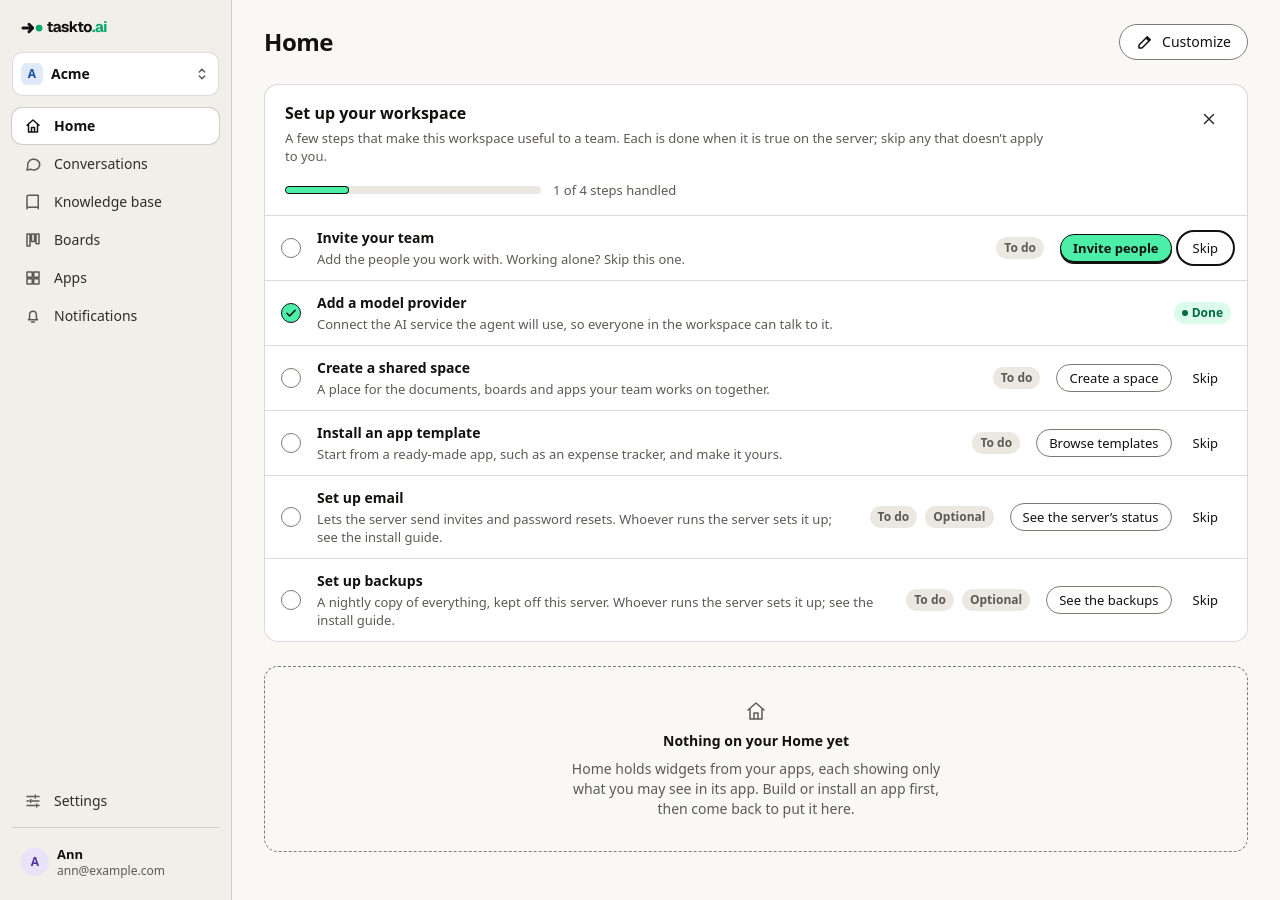
Test: while the list loads again after a change, the button being used stays, and Home isn’t asked for again
Click the button with aria-label "Skip: Invite your team". click: coordinates (1205, 248)
box: [1180,234,1231,262]
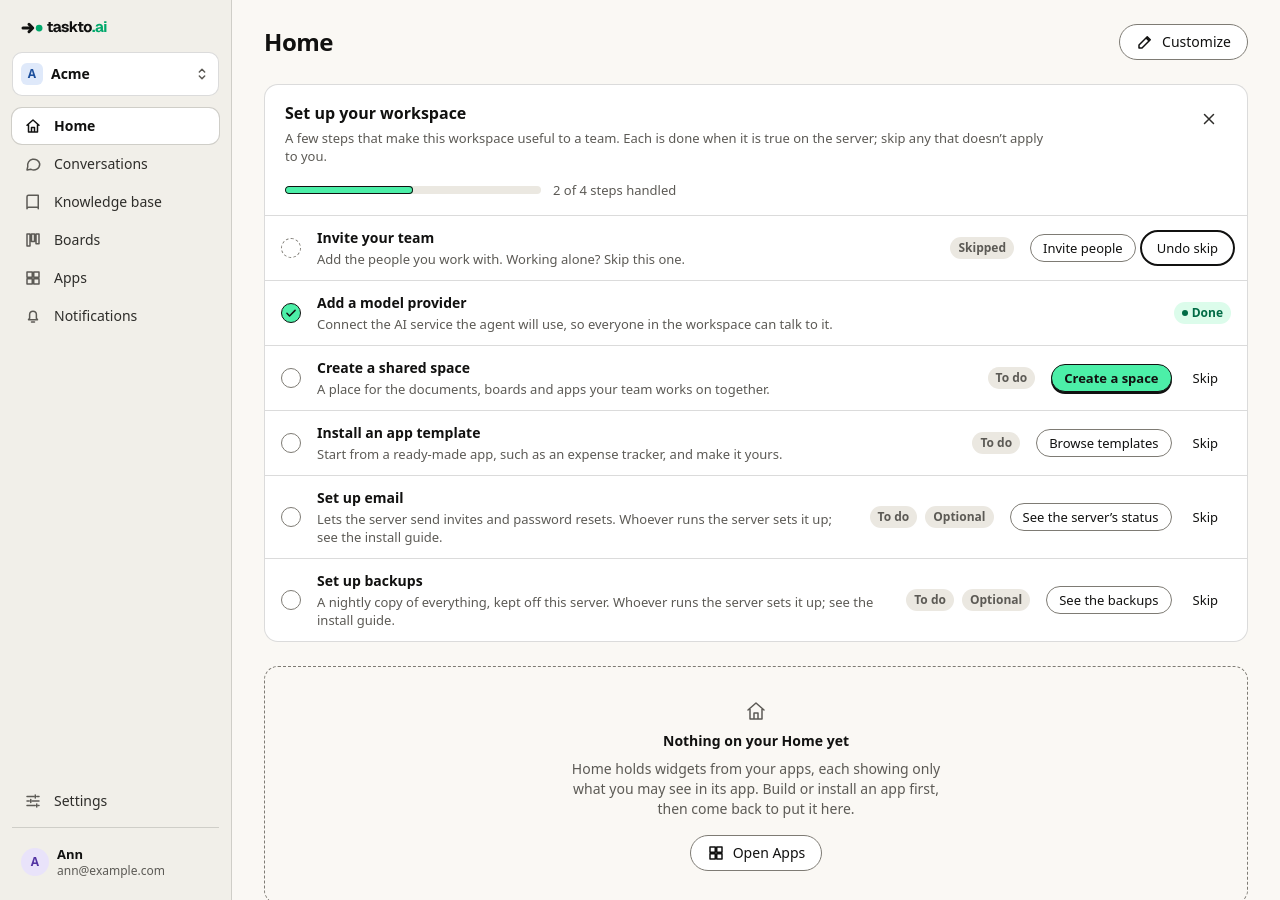
expect the element "Set up your workspace" is shown: met, box [264,84,1248,642]
expect the button with aria-label "Undo skip: Invite your team" is shown: met, box [1144,234,1231,262]
